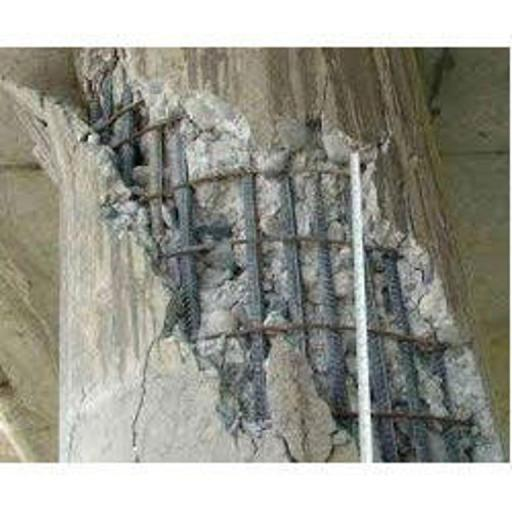spalling: (48, 64, 500, 456)
